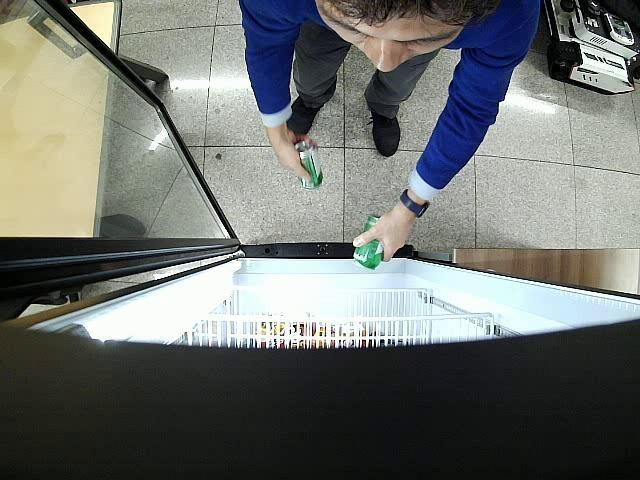12_chilsungCider: (353, 216, 384, 270), (295, 140, 323, 192)
